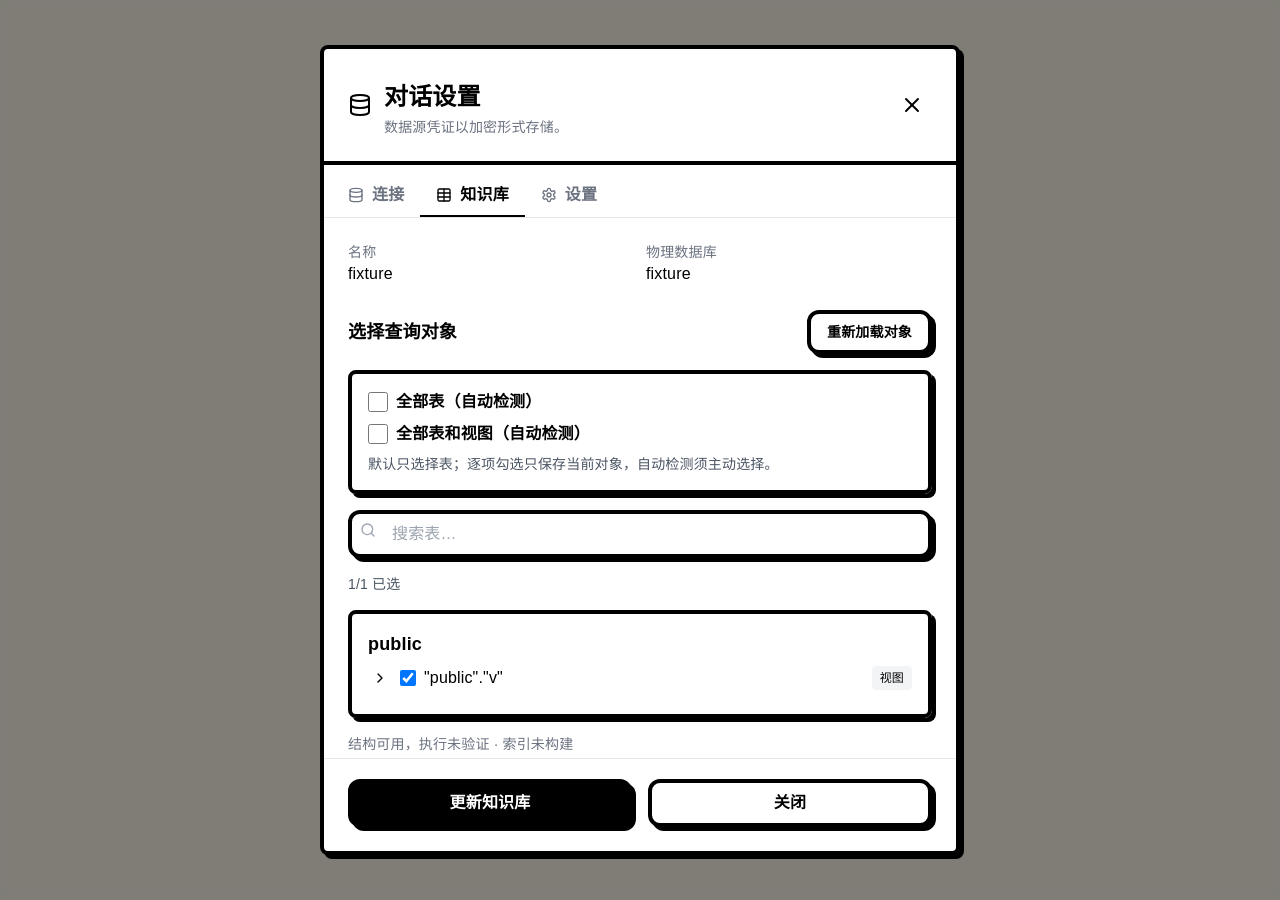
Test case: row status known preserves known/estimated/legacy semantics
Check: the checkbox labelled "\"public\".\"v\"" is shown, box top-left (400, 670), bottom-right (416, 686)
Step 1. Click the button named "展开 \"public\".\"v\"" → (380, 678), box top-left (368, 666), bottom-right (392, 690)
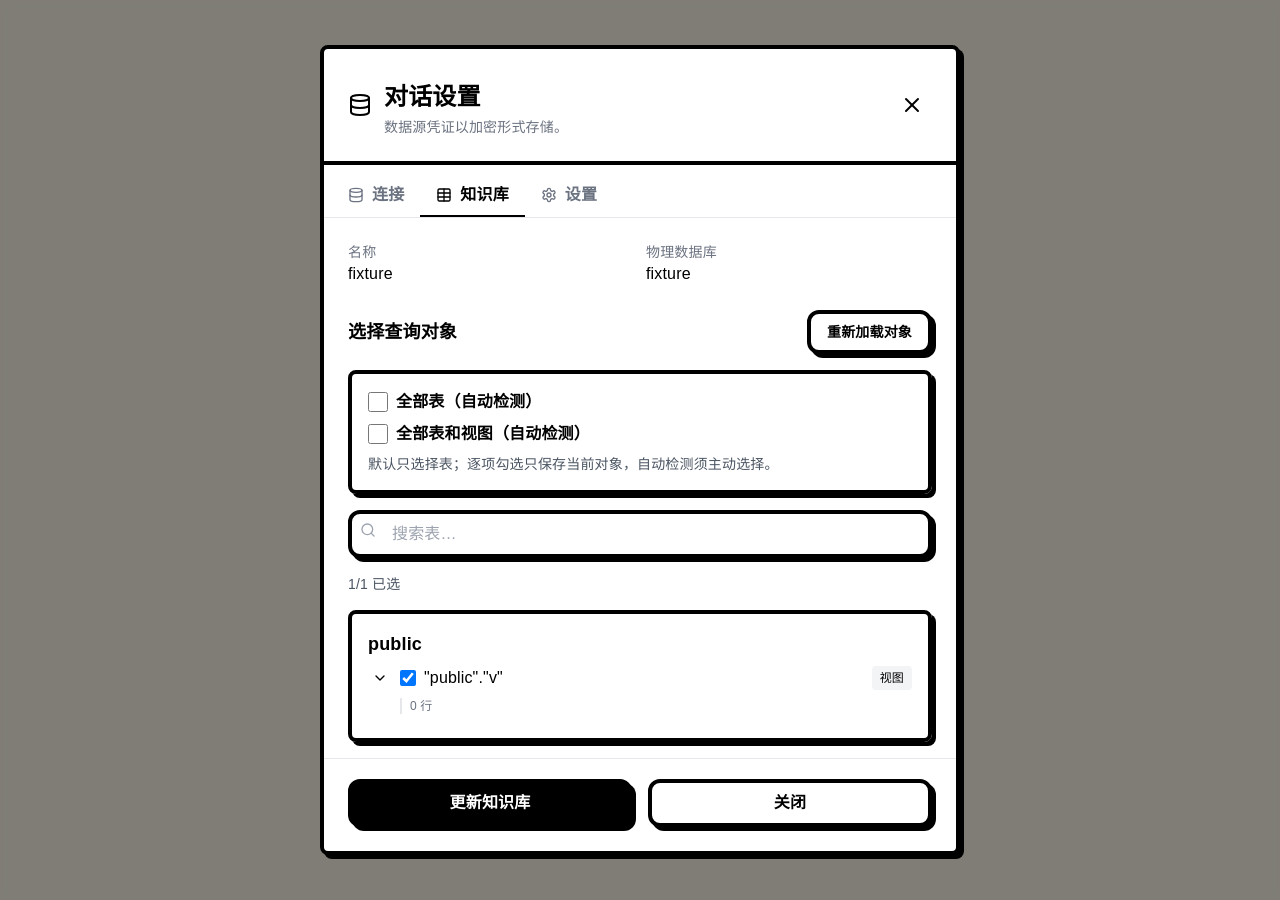
Check: the text "0 行" is shown, box top-left (410, 699), bottom-right (432, 713)
